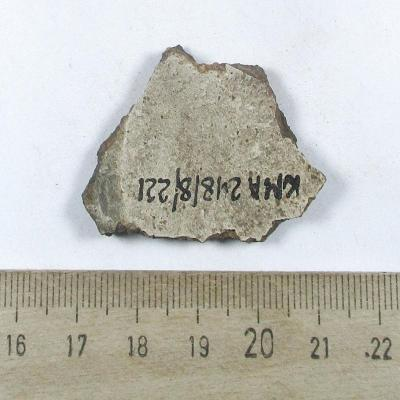archeology: (81, 45, 326, 244)
